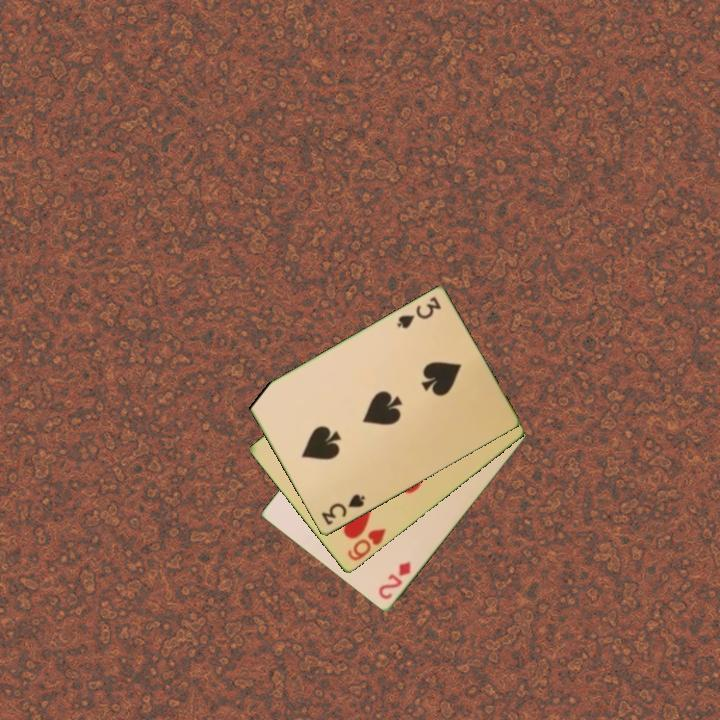2d: (375, 558, 414, 603)
3s: (393, 294, 444, 332), (318, 491, 368, 528)
6h: (344, 525, 389, 564)
